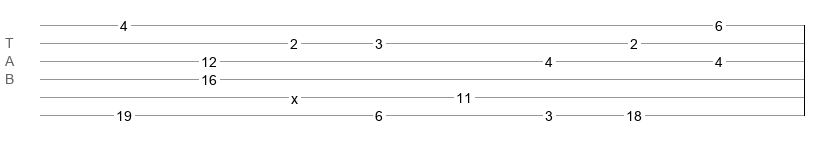11: (456, 90, 472, 100)
12: (201, 54, 217, 64)
16: (201, 72, 217, 82)
18: (626, 108, 642, 118)
19: (116, 108, 132, 118)
2: (290, 36, 298, 46), (630, 36, 638, 46)
3: (375, 36, 383, 46), (545, 108, 553, 118)
4: (120, 18, 128, 28), (545, 54, 553, 64), (715, 54, 723, 64)
6: (375, 108, 383, 118), (715, 18, 723, 28)
x: (291, 91, 298, 99)
